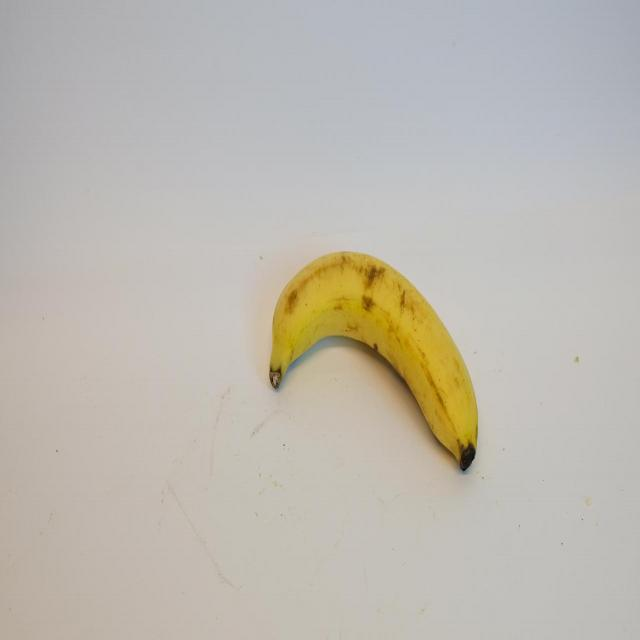banana: (270, 249, 479, 475)
